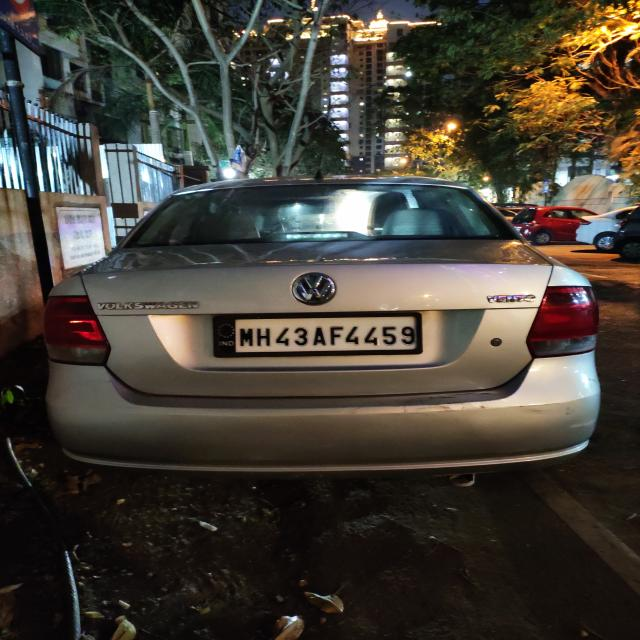Number-Plate: (217, 316, 424, 352)
